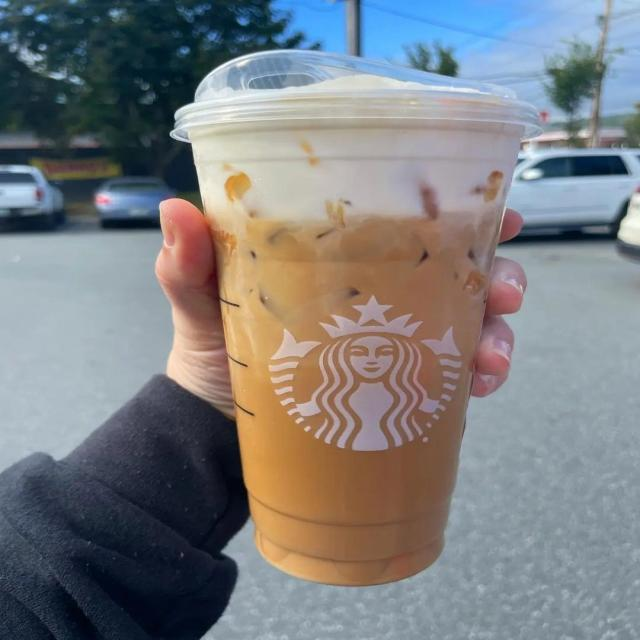plastic cup: (173, 50, 543, 585)
